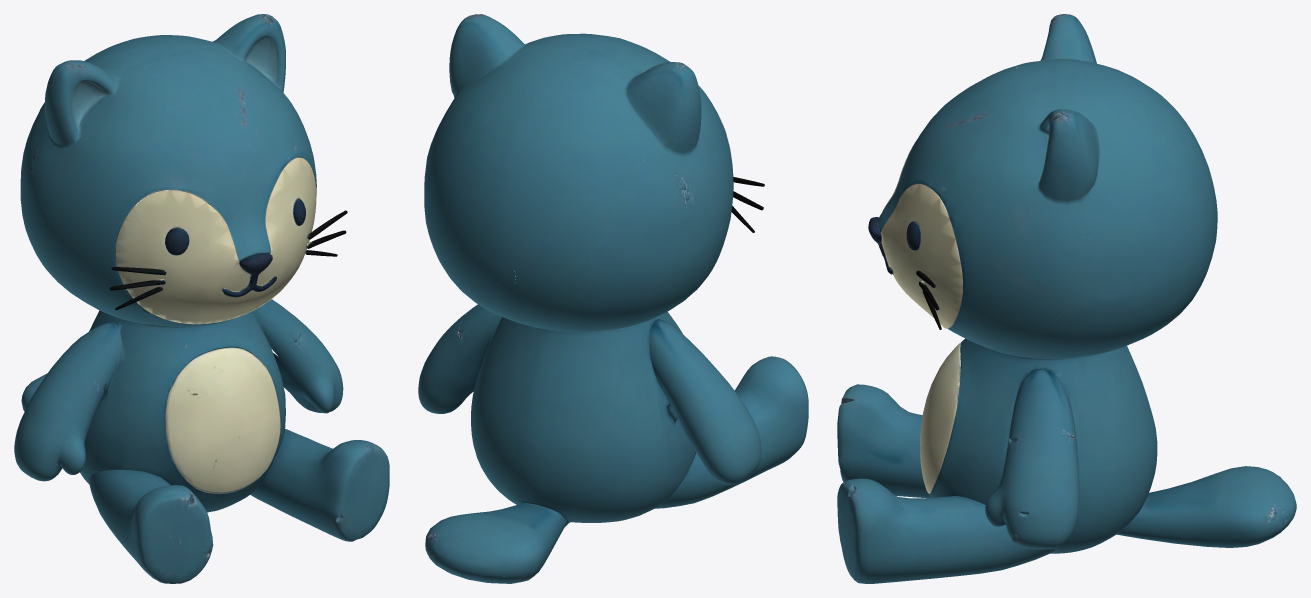
The model's file is cat-b.glb.
The picture shows the model from 3 angles, left to right: view 1: azimuth 30°, elevation 25°; view 2: azimuth 150°, elevation 25°; view 3: azimuth 270°, elevation 25°; orthographic projection. The views are drawn at different scales.
Visible parts, largest first — view 1: tripo_9ddb7f90_6faa_43ba_8aea_cc2e3392728b; view 2: tripo_9ddb7f90_6faa_43ba_8aea_cc2e3392728b; view 3: tripo_9ddb7f90_6faa_43ba_8aea_cc2e3392728b.
Part boxes in pixels (box(x1,y1,x2,y2)): tripo_9ddb7f90_6faa_43ba_8aea_cc2e3392728b: box(14, 14, 389, 583); tripo_9ddb7f90_6faa_43ba_8aea_cc2e3392728b: box(418, 14, 808, 583); tripo_9ddb7f90_6faa_43ba_8aea_cc2e3392728b: box(837, 14, 1296, 583).
Size of the model in its own units: 0.7319 by 0.9995 by 0.8843.
Materials: 1 (1 with a texture image).
